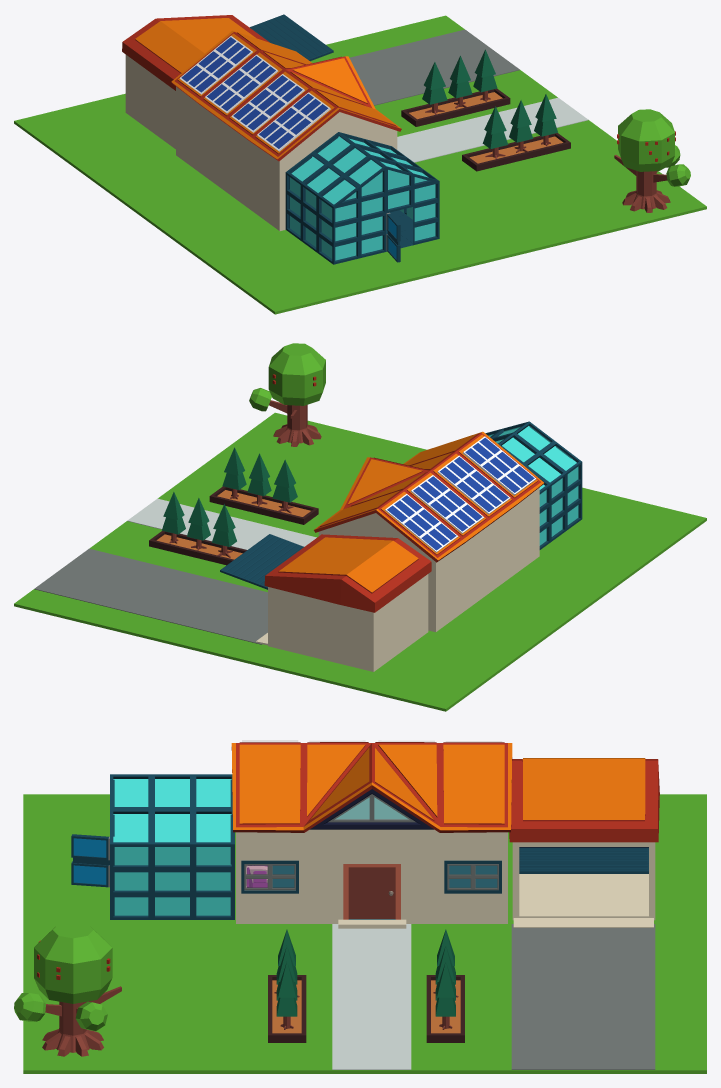
Rendered from house_for_sale.glb.
The picture shows the model from 3 angles, top to bottom: view 1: azimuth 30°, elevation 25°; view 2: azimuth 150°, elevation 25°; view 3: azimuth 270°, elevation 25°; orthographic projection. The views are drawn at different scales.
Visible parts, largest first — view 1: Plane.002, Cube, Cube.003, Cube.005; view 2: Plane.002, Cube, Cube.003; view 3: Plane.002, Cube, Cube.003, Cube.002, Cube.005, Cube.001, Plane.001, Plane.
Part boxes in pixels (x1=…): Plane.002: x1=14, y1=15, x2=706, y2=314; Cube: x1=122, y1=15, x2=439, y2=264; Cube.003: x1=249, y1=14, x2=333, y2=61; Cube.005: x1=386, y1=212, x2=400, y2=262; Plane.002: x1=14, y1=343, x2=706, y2=711; Cube: x1=255, y1=421, x2=582, y2=671; Cube.003: x1=220, y1=534, x2=303, y2=589; Plane.002: x1=14, y1=794, x2=706, y2=1073; Cube: x1=110, y1=740, x2=659, y2=928; Cube.003: x1=519, y1=847, x2=648, y2=873; Cube.002: x1=348, y1=867, x2=395, y2=918; Cube.005: x1=71, y1=834, x2=109, y2=887; Cube.001: x1=343, y1=864, x2=400, y2=919; Plane.001: x1=449, y1=866, x2=496, y2=887; Plane: x1=246, y1=866, x2=293, y2=887.
Size of the model in its own units: 9.61 by 2.42 by 10.2.
Materials: 2 (1 with a texture image).
